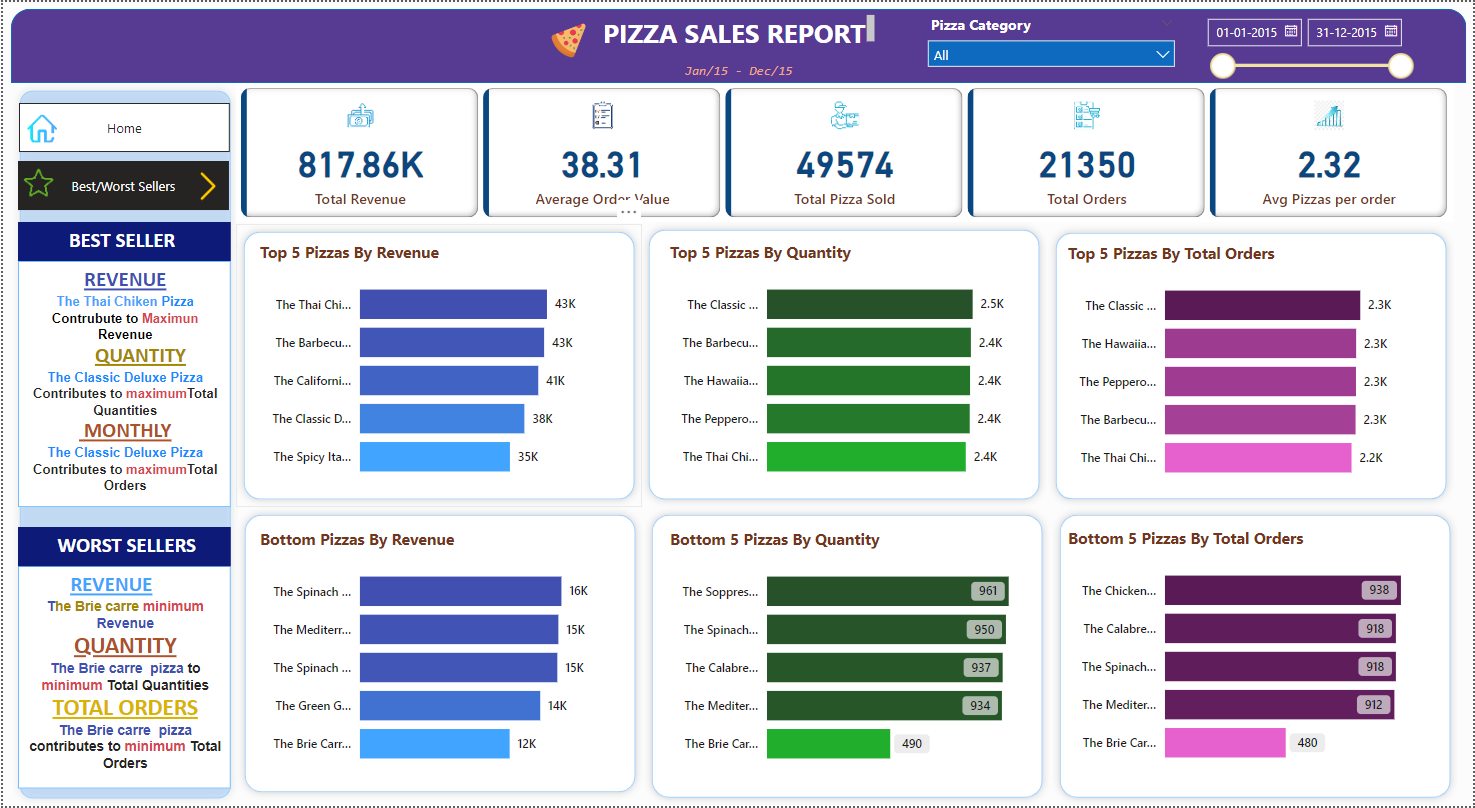

The dashboard page shown, as its layout file describes it:
{"tool":"powerbi","page":{"name":"Best/Worst Sellers","canvas":[1500,820],"ordinal":1},"visuals":[{"type":"shape","box":[8.9,82.2,231.1,737.8],"z":0},{"type":"cardVisual","fields":{"Data":["pizza_sales.Total Revenue","pizza_sales.Average Order Value","pizza_sales.Total Pizza Sold","pizza_sales.Total Orders","pizza_sales.Avg Pizzas per order"]},"box":[237.8,82.2,1242.2,142.2],"z":1000},{"type":"shape","box":[7.8,6.7,1484.4,75.6],"z":2000},{"type":"textbox","box":[606.7,7.8,286.7,41.1],"z":3000},{"type":"textbox","box":[680,55.6,140,33.3],"z":4000},{"type":"image","box":[553.3,14.4,45.6,50],"z":5000},{"type":"shape","box":[237.8,226.7,414.4,288.9],"z":6000},{"type":"textbox","box":[15,224,217,41],"z":7000},{"type":"textbox","box":[15.6,575.6,216.7,226.7],"z":8000},{"type":"textbox","box":[15.6,264.4,216.7,251.1],"z":9000},{"type":"textbox","box":[15.6,535.6,216.7,40],"z":10000},{"type":"slicer","fields":{"Values":["pizza_sales.pizza_category"]},"box":[933.3,6.7,272.2,65.6],"z":11000},{"type":"slicer","fields":{"Values":["pizza_sales.order_date"]},"box":[1215.6,6.7,231.1,74.4],"z":12000},{"type":"shape","box":[651.1,224.4,414.4,291.1],"z":13000},{"type":"shape","box":[1065.6,227.8,414.4,287.8],"z":14000},{"type":"shape","box":[238.9,515.6,414.4,298.9],"z":15000},{"type":"shape","box":[653.3,515.6,414.4,304.4],"z":16000},{"type":"shape","box":[1070,515.6,414.4,304.4],"z":17000},{"type":"barChart","title":"Top 5 Pizzas  By Revenue","fields":{"Category":["pizza_sales.pizza_name"],"Y":["pizza_sales.Total Revenue"]},"box":[256.7,243.3,375.6,256.7],"z":18000},{"type":"barChart","title":"Bottom Pizzas  By Revenue","fields":{"Category":["pizza_sales.pizza_name"],"Y":["pizza_sales.Total Revenue"]},"box":[256.7,536.7,375.6,256.7],"z":19000},{"type":"barChart","title":"Top 5 Pizzas  By Quantity","fields":{"Category":["pizza_sales.pizza_name"],"Y":["pizza_sales.Total Pizza Sold"]},"box":[675.6,243.3,365.6,256.7],"z":20000},{"type":"barChart","title":"Bottom 5 Pizzas  By Quantity","fields":{"Category":["pizza_sales.pizza_name"],"Y":["pizza_sales.Total Pizza Sold"]},"box":[675.6,536.7,365.6,256.7],"z":21000},{"type":"barChart","title":"Top 5 Pizzas  By Total Orders","fields":{"Category":["pizza_sales.pizza_name"],"Y":["pizza_sales.Total Orders"]},"box":[1081.1,244.4,365.6,256.7],"z":22000},{"type":"barChart","title":"Bottom 5 Pizzas  By Total Orders","fields":{"Category":["pizza_sales.pizza_name"],"Y":["pizza_sales.Total Orders"]},"box":[1081.1,535.6,365.6,256.7],"z":23000},{"type":"pageNavigator","box":[15.6,162.2,215.6,50],"z":24000},{"type":"pageNavigator","box":[16.7,103.3,215.6,50],"z":25000},{"type":"image","box":[186.7,167.8,44.4,38.9],"z":26000},{"type":"image","box":[0,108.9,80,40],"z":27000},{"type":"image","box":[16.7,162.2,40,44.4],"z":28000}]}

Visuals, with their boxes in screenshot pixels (x1, y1, x2, y2), scaled from the page's 1500x820 canvas onto the 1475x808 screenshot:
shape: [left=9, top=81, right=236, bottom=807]
cardVisual - pizza_sales.Total Revenue x pizza_sales.Average Order Value: [left=234, top=81, right=1455, bottom=221]
shape: [left=8, top=7, right=1467, bottom=81]
textbox: [left=597, top=8, right=879, bottom=48]
textbox: [left=669, top=55, right=806, bottom=88]
image: [left=544, top=14, right=589, bottom=63]
shape: [left=234, top=223, right=641, bottom=508]
textbox: [left=15, top=221, right=228, bottom=261]
textbox: [left=15, top=567, right=228, bottom=791]
textbox: [left=15, top=261, right=228, bottom=508]
textbox: [left=15, top=528, right=228, bottom=567]
slicer - pizza_sales.pizza_category: [left=918, top=7, right=1185, bottom=71]
slicer - pizza_sales.order_date: [left=1195, top=7, right=1423, bottom=80]
shape: [left=640, top=221, right=1048, bottom=508]
shape: [left=1048, top=224, right=1455, bottom=508]
shape: [left=235, top=508, right=642, bottom=803]
shape: [left=642, top=508, right=1050, bottom=807]
shape: [left=1052, top=508, right=1460, bottom=807]
"Top 5 Pizzas  By Revenue" barChart: [left=252, top=240, right=622, bottom=493]
"Bottom Pizzas  By Revenue" barChart: [left=252, top=529, right=622, bottom=782]
"Top 5 Pizzas  By Quantity" barChart: [left=664, top=240, right=1024, bottom=493]
"Bottom 5 Pizzas  By Quantity" barChart: [left=664, top=529, right=1024, bottom=782]
"Top 5 Pizzas  By Total Orders" barChart: [left=1063, top=241, right=1423, bottom=494]
"Bottom 5 Pizzas  By Total Orders" barChart: [left=1063, top=528, right=1423, bottom=781]
pageNavigator: [left=15, top=160, right=227, bottom=209]
pageNavigator: [left=16, top=102, right=228, bottom=151]
image: [left=184, top=165, right=227, bottom=204]
image: [left=0, top=107, right=79, bottom=147]
image: [left=16, top=160, right=56, bottom=204]
